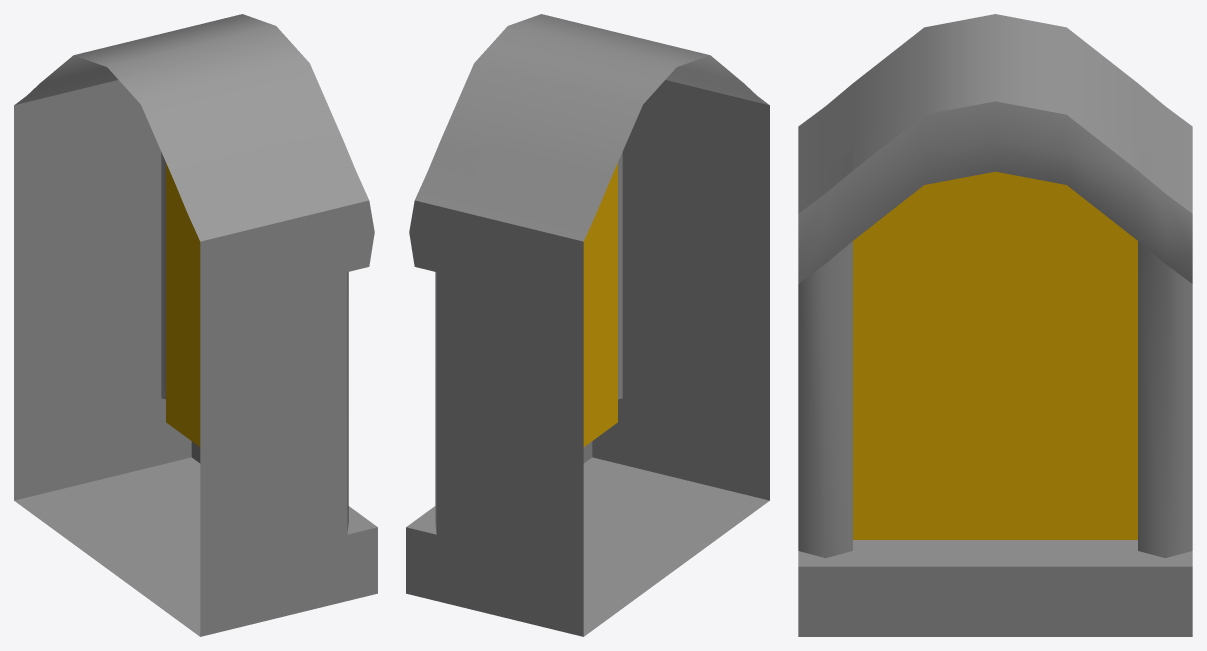
File: Window2.fbx
3 renders of one model, left to right at view 1: azimuth 30°, elevation 25°; view 2: azimuth 150°, elevation 25°; view 3: azimuth 270°, elevation 25°, orthographic. The views are drawn at different scales.
Visible parts, largest first — view 1: Window2; view 2: Window2; view 3: Window2.
Part boxes in pixels (<box>): Window2: <box>14,14,377,636</box>; Window2: <box>406,14,769,636</box>; Window2: <box>798,14,1192,636</box>.
Size of the model in its own units: 0.6307 by 1.7 by 1.15.
